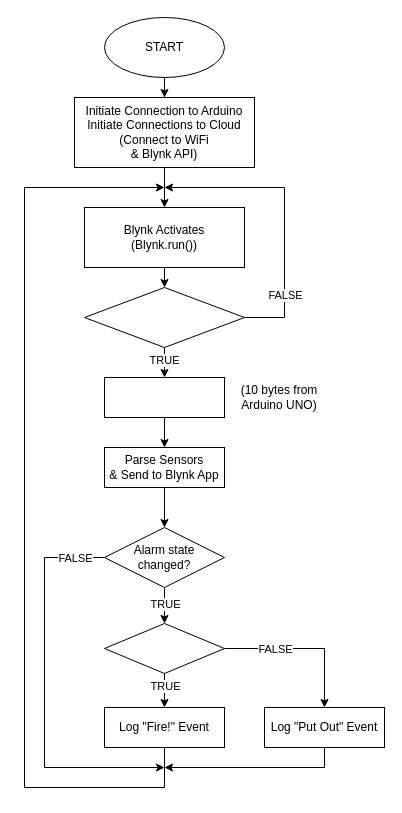
The diagram is 402 pixels wide and 813 high, and some of its shapes have lost their labels. Each missing label, with the box of its shape:
Alarm is On?: (104, 622, 224, 674)
Request Data through I2C: (104, 376, 224, 418)
Timer Passed 1 Second?: (84, 286, 244, 348)
